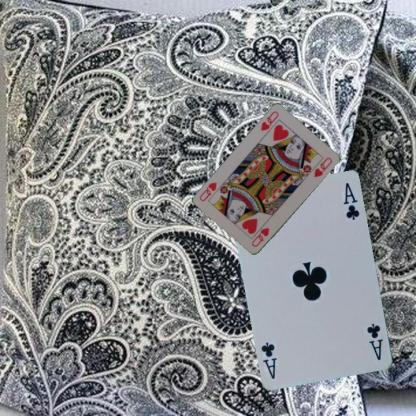Ac: (364, 320, 384, 362)
Qh: (258, 109, 280, 132), (249, 226, 270, 248)
